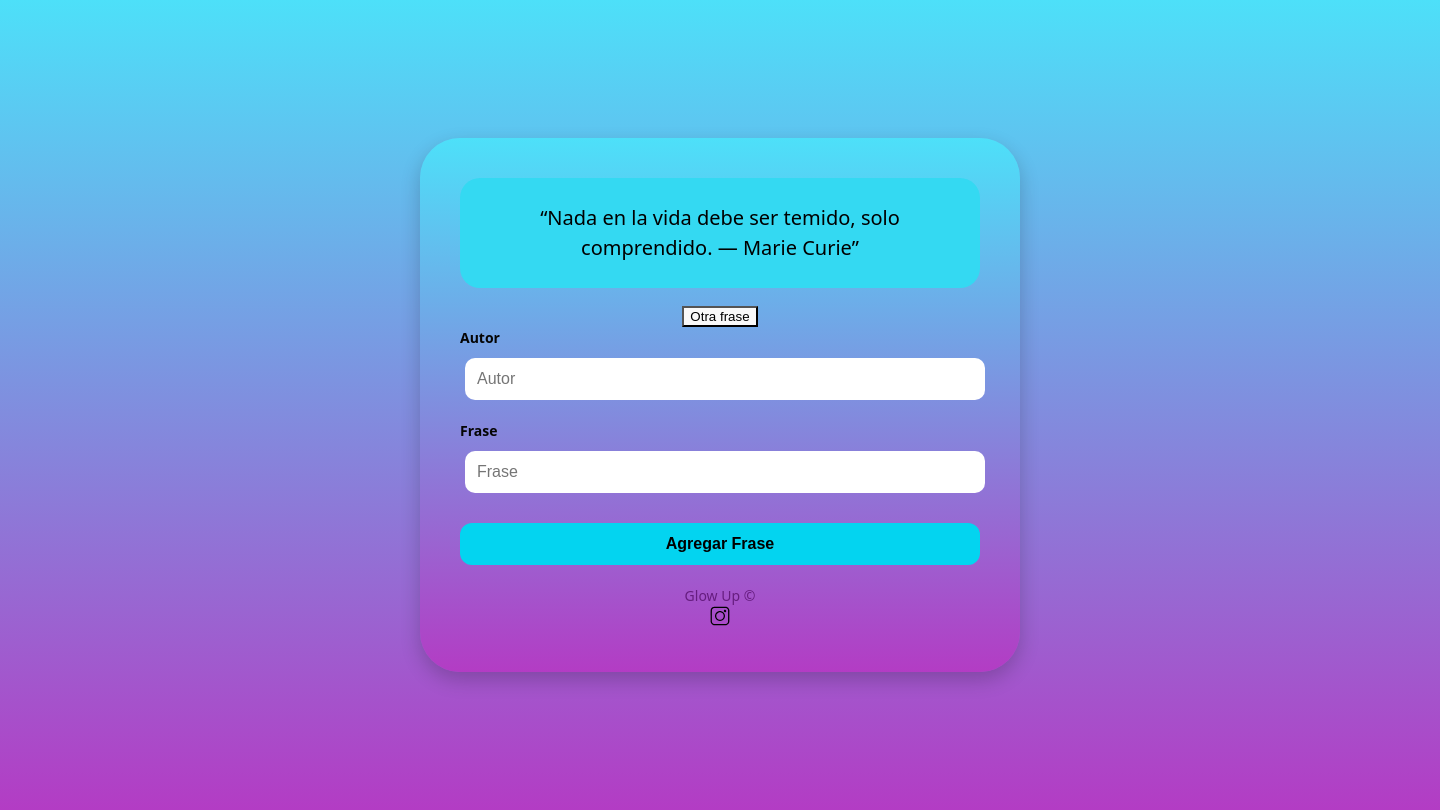
Test: MotivationalPhrases › permite agregar una nueva frase
Step 1. Type "Ada" into the field labelled "Autor" → point(725, 379), box [465,358,985,400]
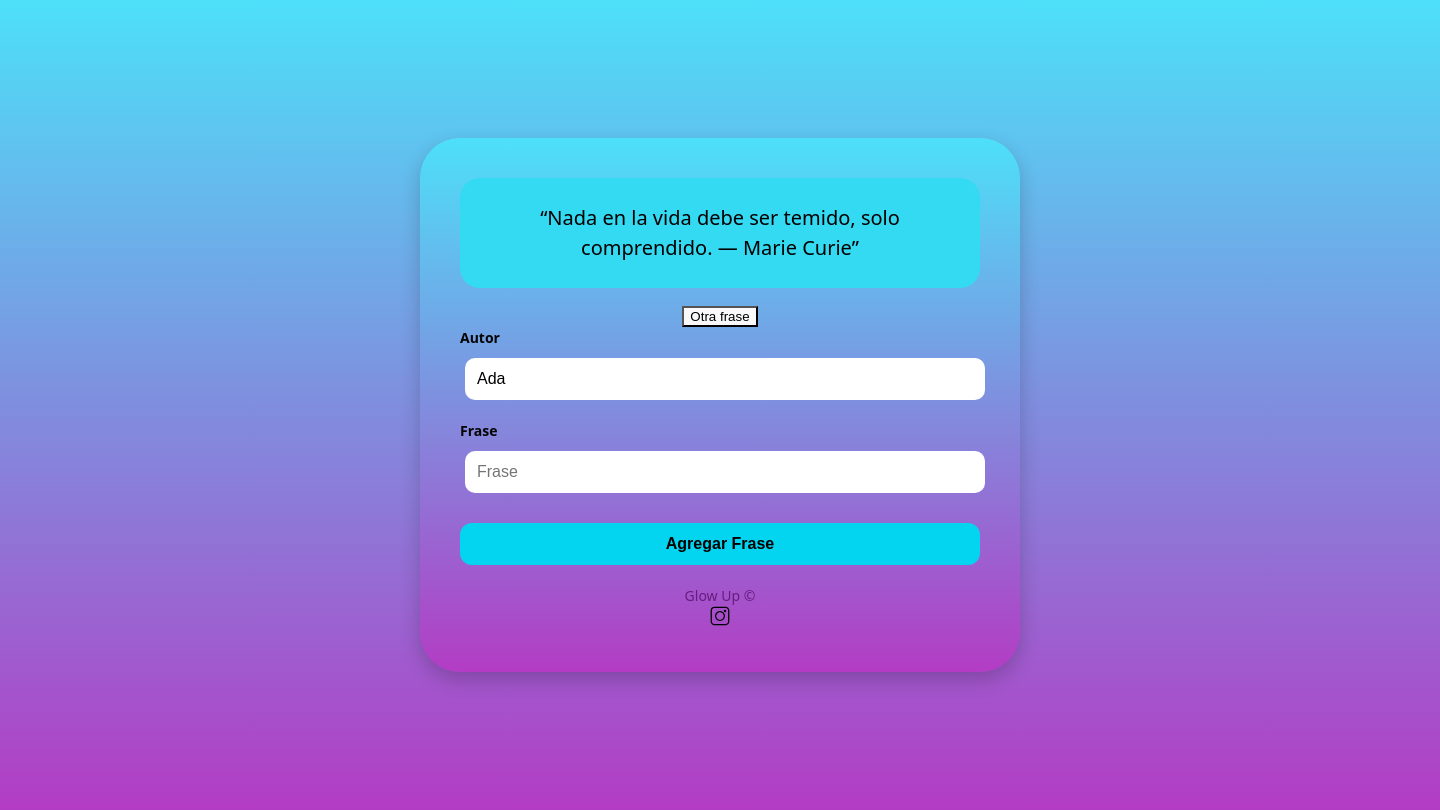
Step 2. Type "La programación es arte" into the field labelled "Frase" → point(725, 472), box [465,451,985,493]
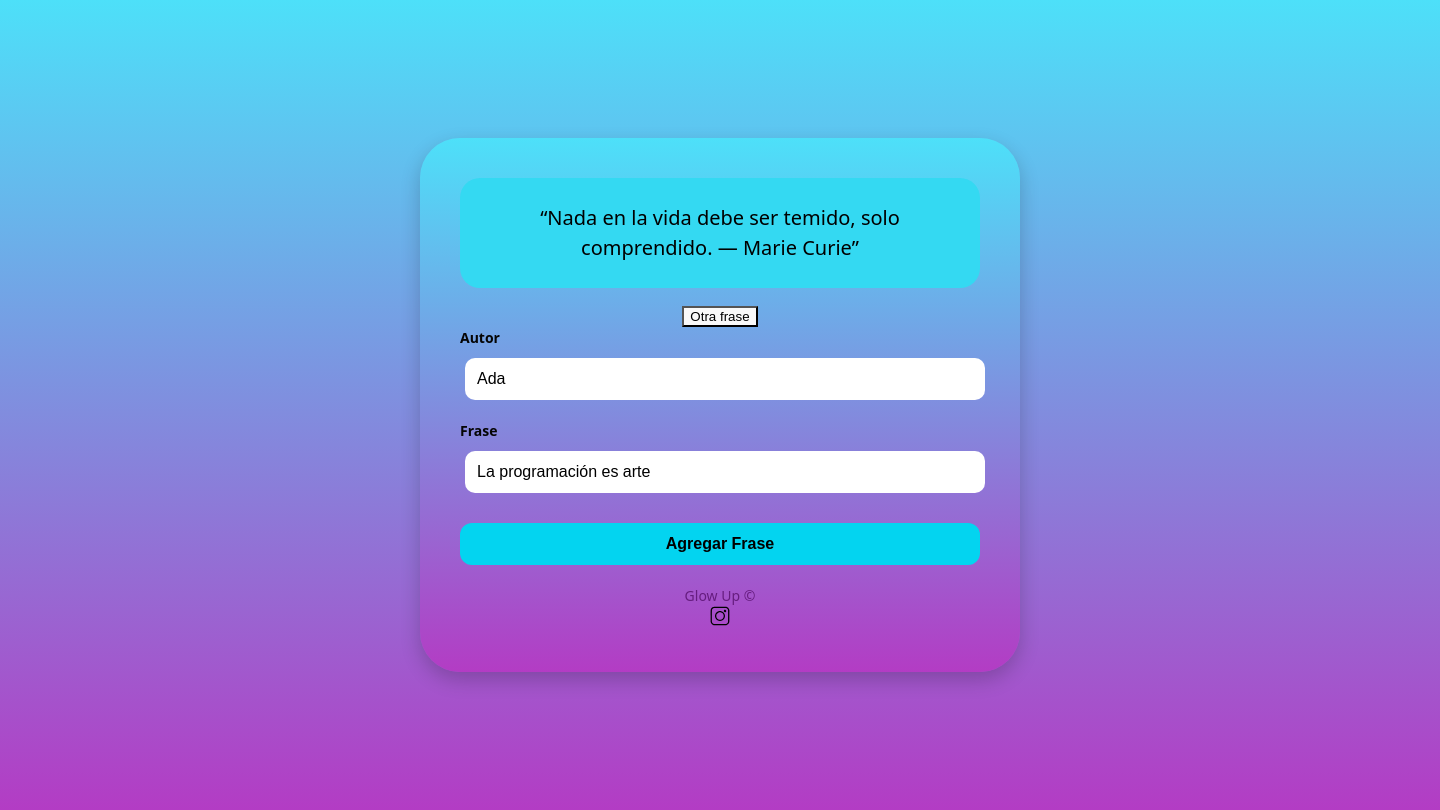
Step 3. Click the button "Agregar Frase" → point(720, 544), box [460,523,980,565]
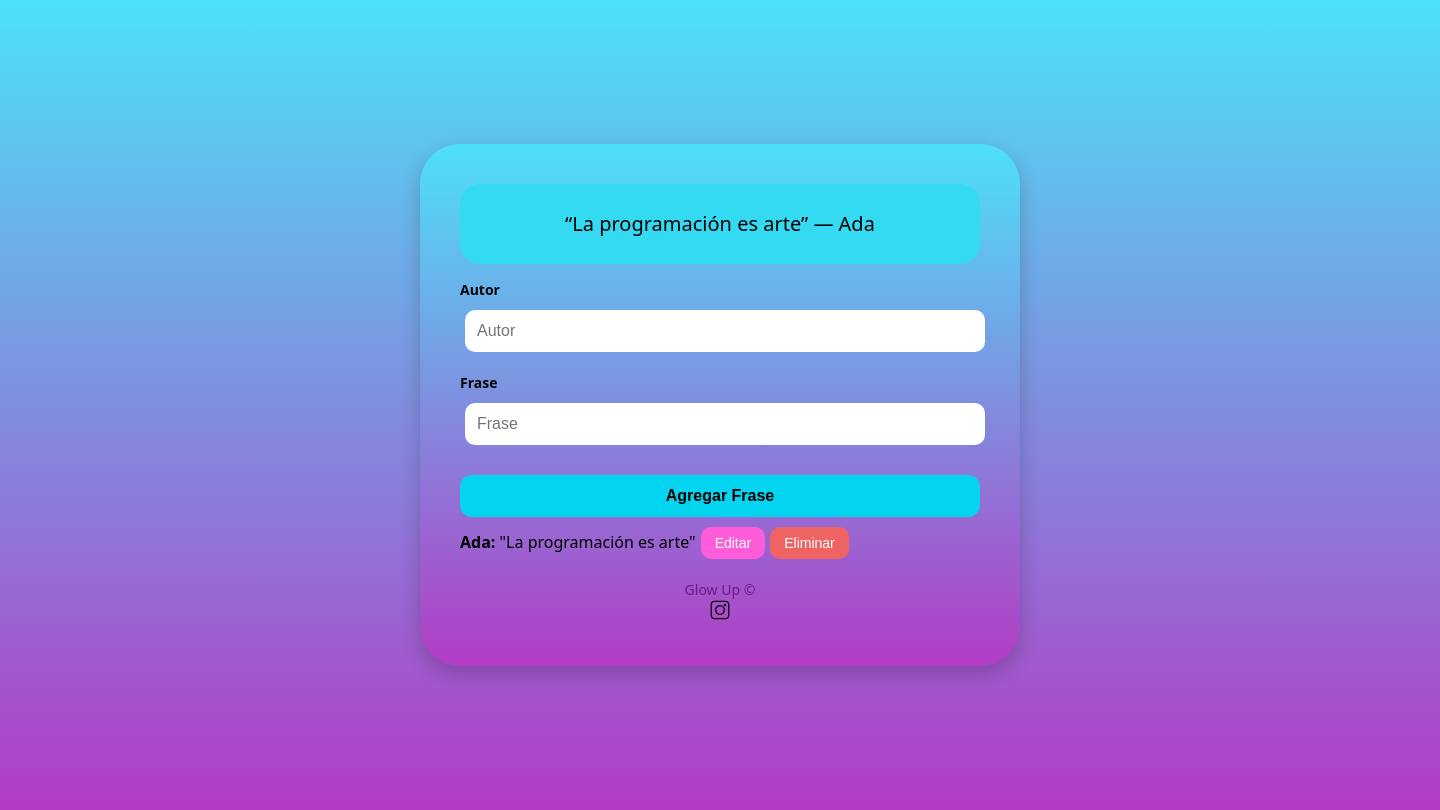
Expected: the text "Ada:" is shown, [460,531,495,553]
Expected: the list item "Ada: \"La programación es arte\" Editar Eliminar" is shown, [460,527,849,559]
